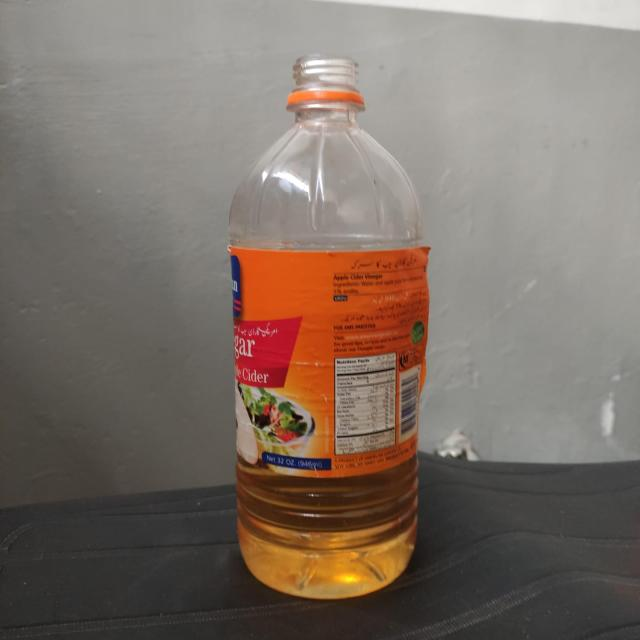bottle: (225, 45, 433, 601)
label: (232, 246, 419, 471)
